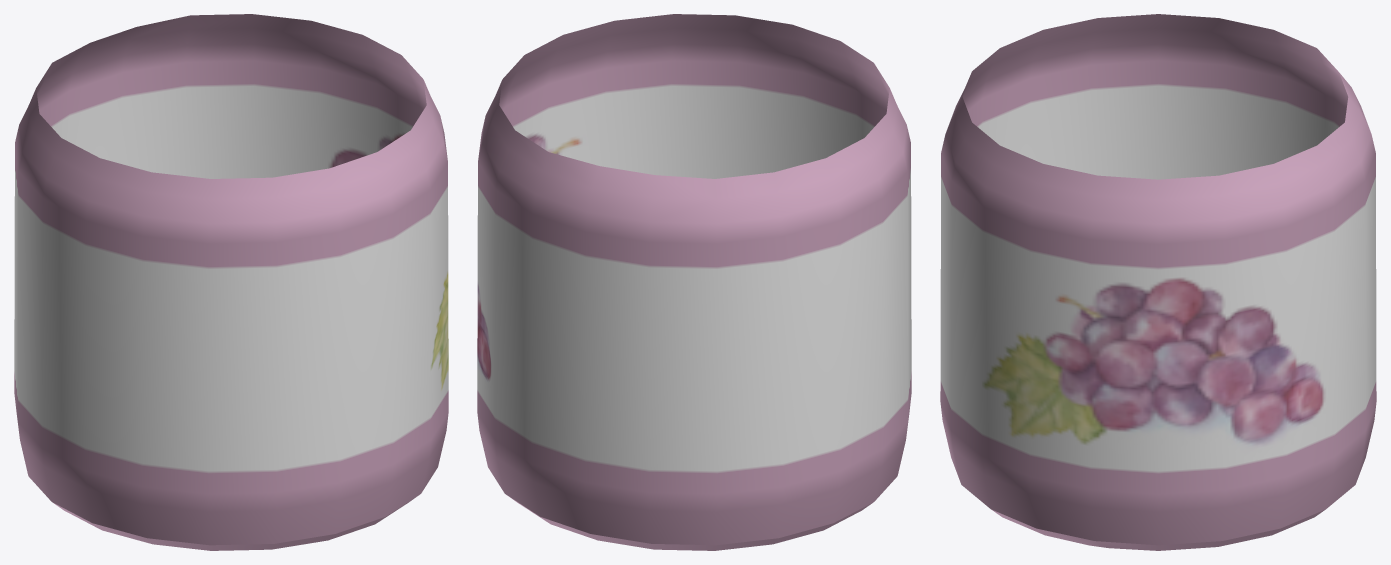
Rendered from jam5.obj.
The picture shows the model from 3 angles, left to right: view 1: azimuth 30°, elevation 25°; view 2: azimuth 150°, elevation 25°; view 3: azimuth 270°, elevation 25°; orthographic projection.
Parts seen in each view (by area): view 1: polySurface1 group62; view 2: polySurface1 group62; view 3: polySurface1 group62.
Boxes of the visible parts, left/top/right/bottom form: polySurface1 group62: left=14, top=14, right=448, bottom=550; polySurface1 group62: left=477, top=14, right=911, bottom=550; polySurface1 group62: left=940, top=14, right=1376, bottom=550.
Bounding box in the file's own units: 21.66 × 20.42 × 21.66.
